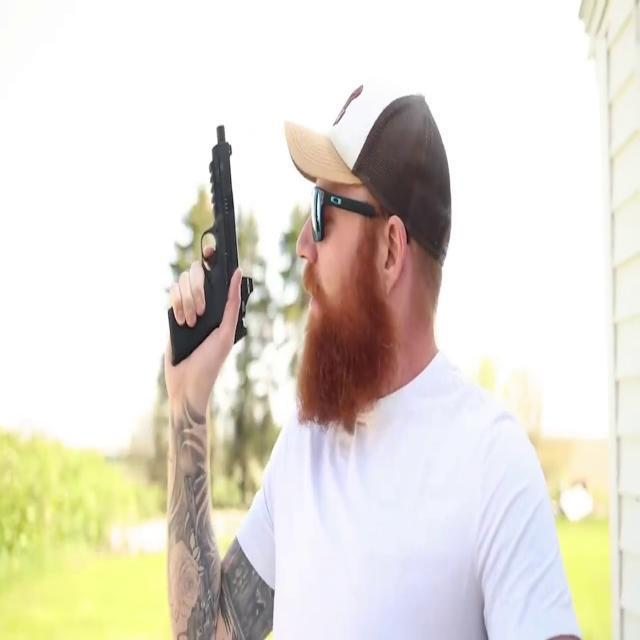Handgun: (162, 114, 259, 376)
